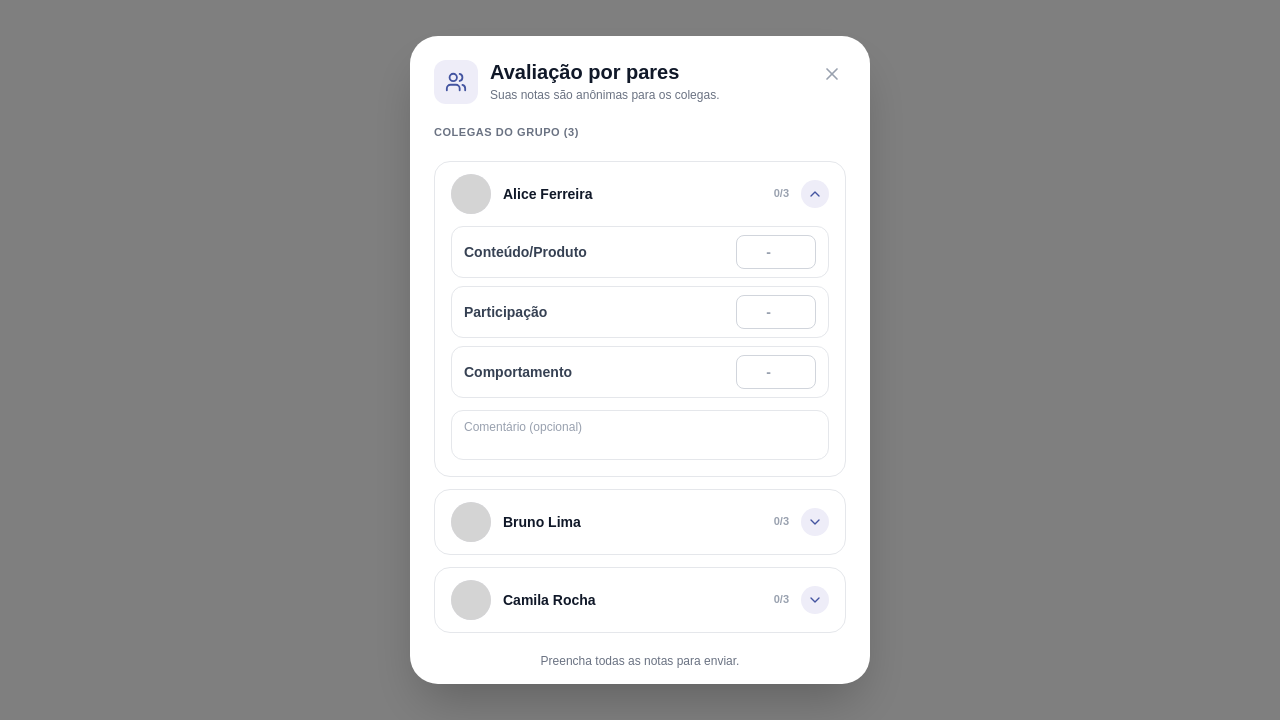
Test: [US14] PeerEvaluationModal › Deve preservar as notas de um colega ao recolher e reabrir o card
This screenshot has width=1280, height=720.
Type "8" into the number field labelled "Conteúdo/Produto" at (776, 252), box [736, 234, 816, 268]
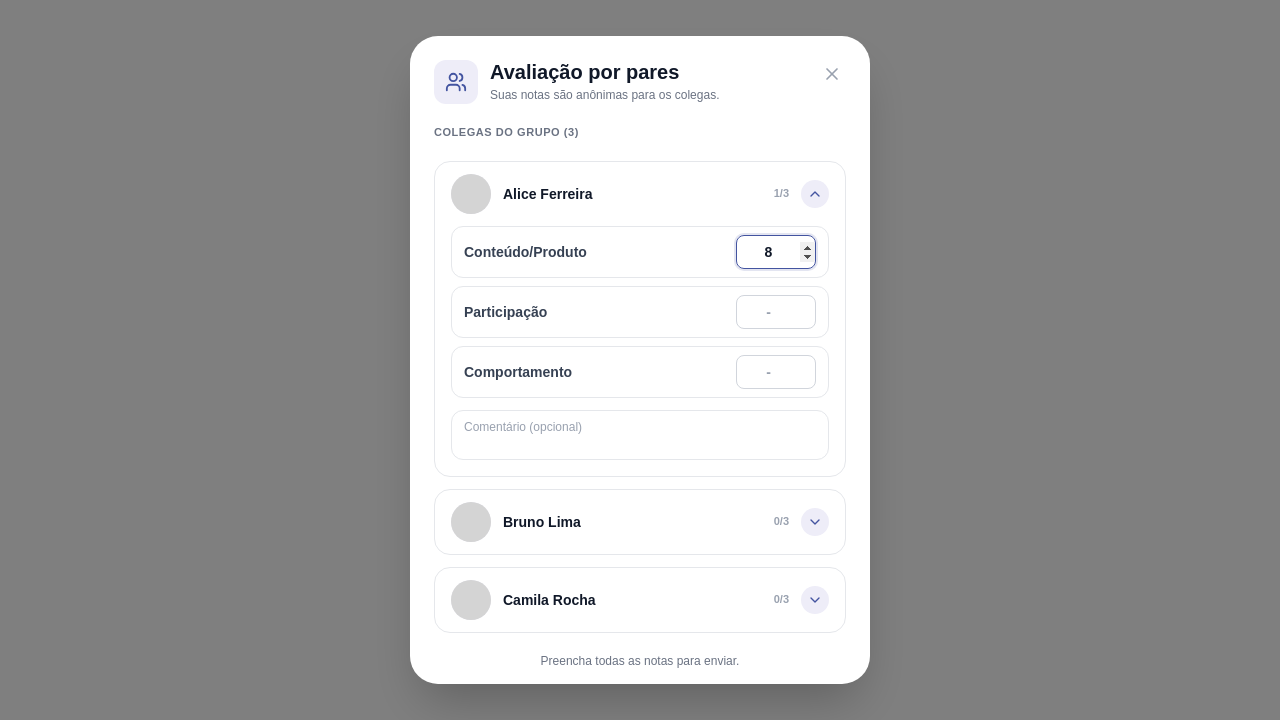
Type "9" into the number field labelled "Participação" at (776, 312), box [736, 294, 816, 328]
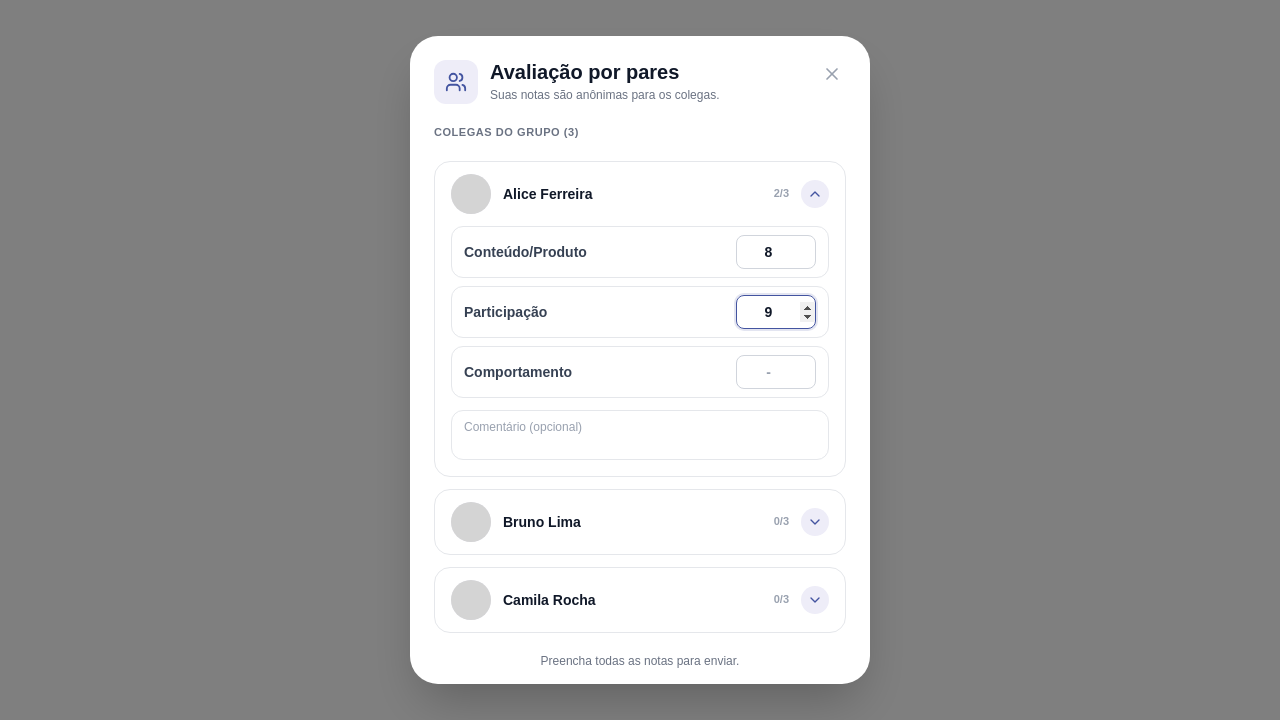
Type "7" into the number field labelled "Comportamento" at (776, 372), box [736, 354, 816, 388]
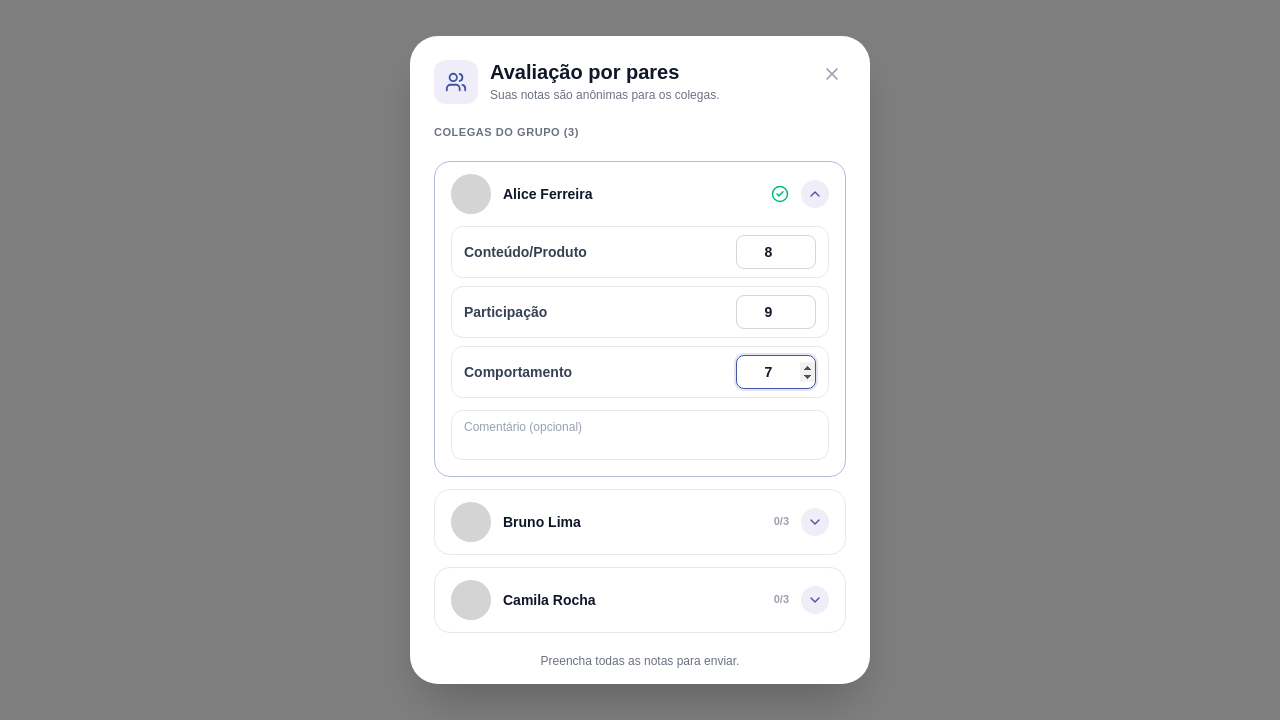
Click the button "Bruno Lima 0/3" at (471, 522), box [435, 490, 845, 554]
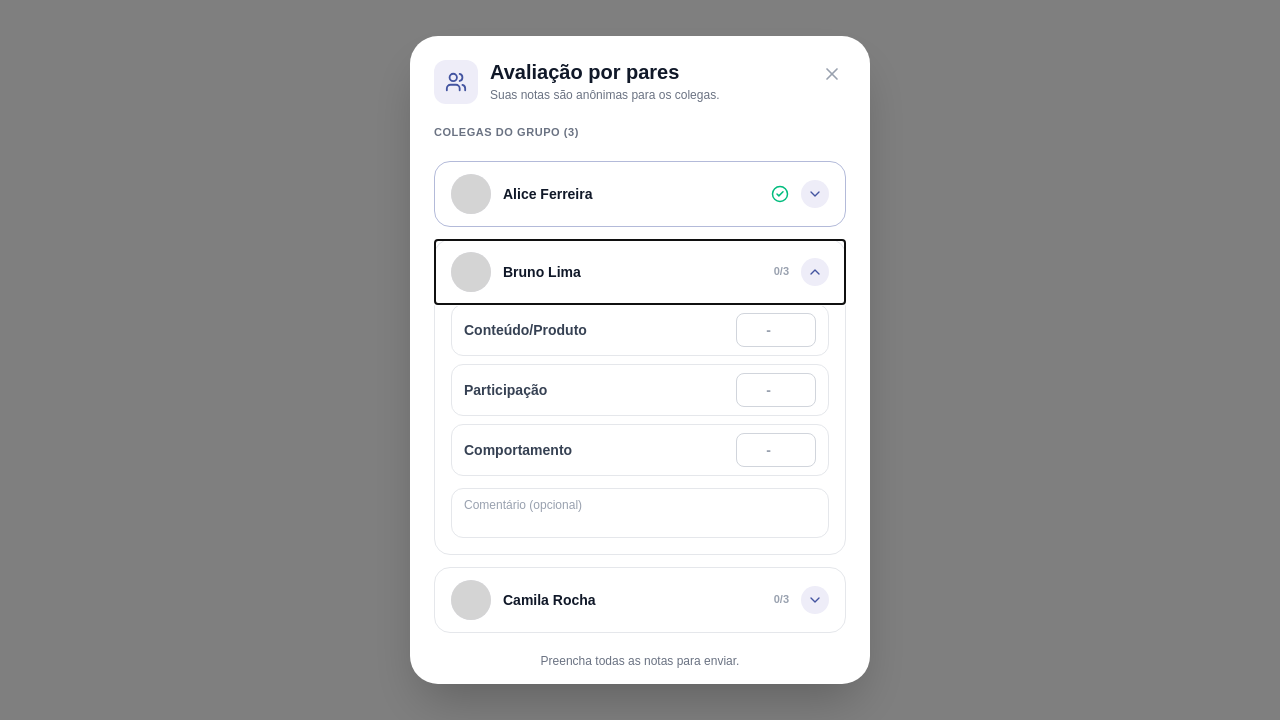
Click the button "Alice Ferreira" at (471, 194), box [435, 162, 845, 226]
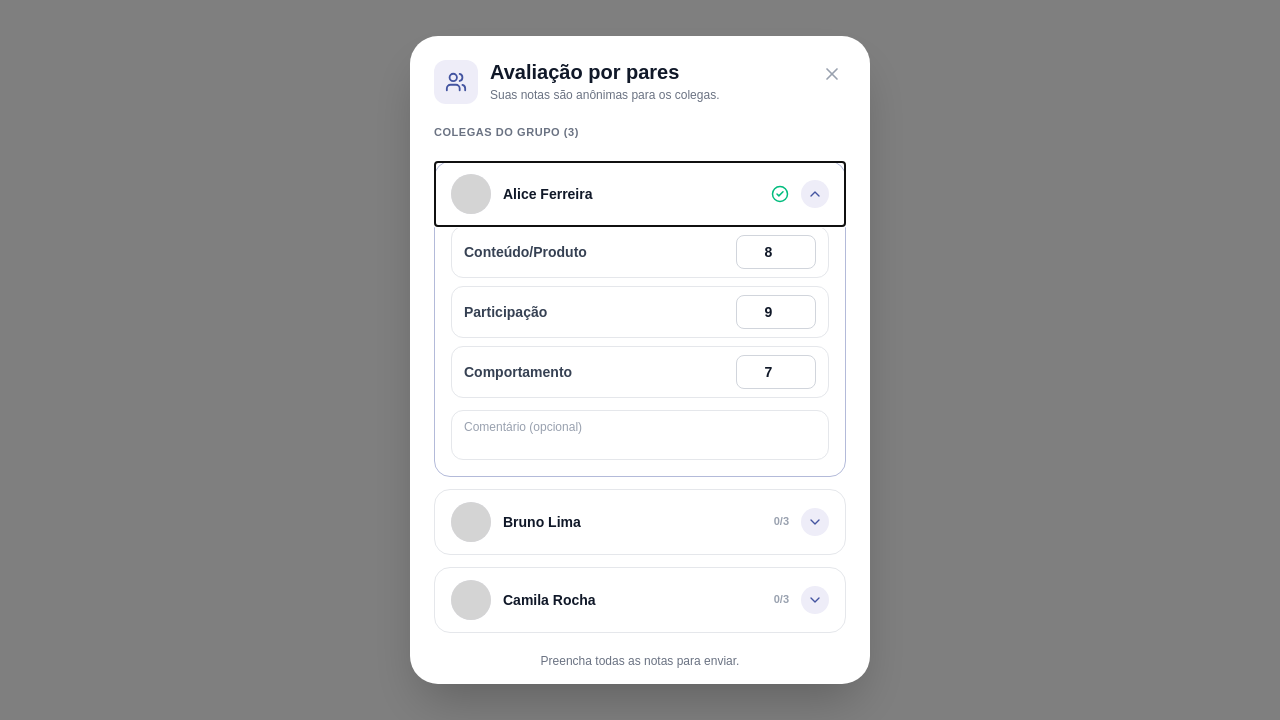
Check: the number field labelled "Conteúdo/Produto" holds "8", box [736, 234, 816, 268]
Check: the number field labelled "Participação" holds "9", box [736, 294, 816, 328]
Check: the number field labelled "Comportamento" holds "7", box [736, 354, 816, 388]
